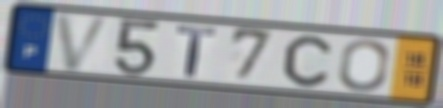5: (112, 16, 163, 78)
7: (228, 26, 278, 87)
C: (281, 33, 334, 89)
O: (335, 38, 392, 93)
T: (174, 24, 218, 80)
V: (52, 11, 115, 73)
